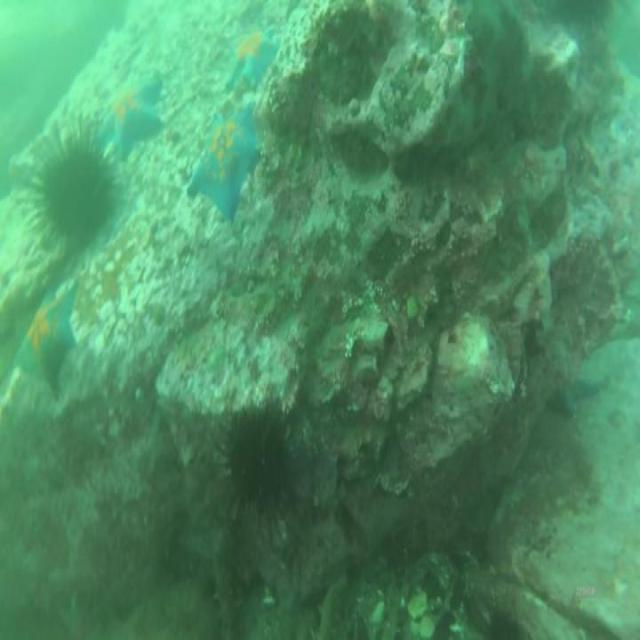echinus: (226, 408, 297, 512), (40, 148, 113, 234)
starfish: (188, 116, 258, 222), (18, 296, 76, 394), (100, 77, 164, 156), (228, 25, 274, 84), (546, 374, 604, 418)
